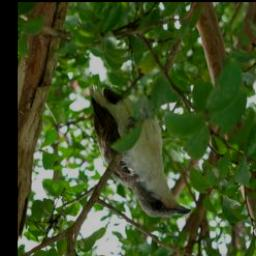Cuckoo: (88, 82, 189, 220)
